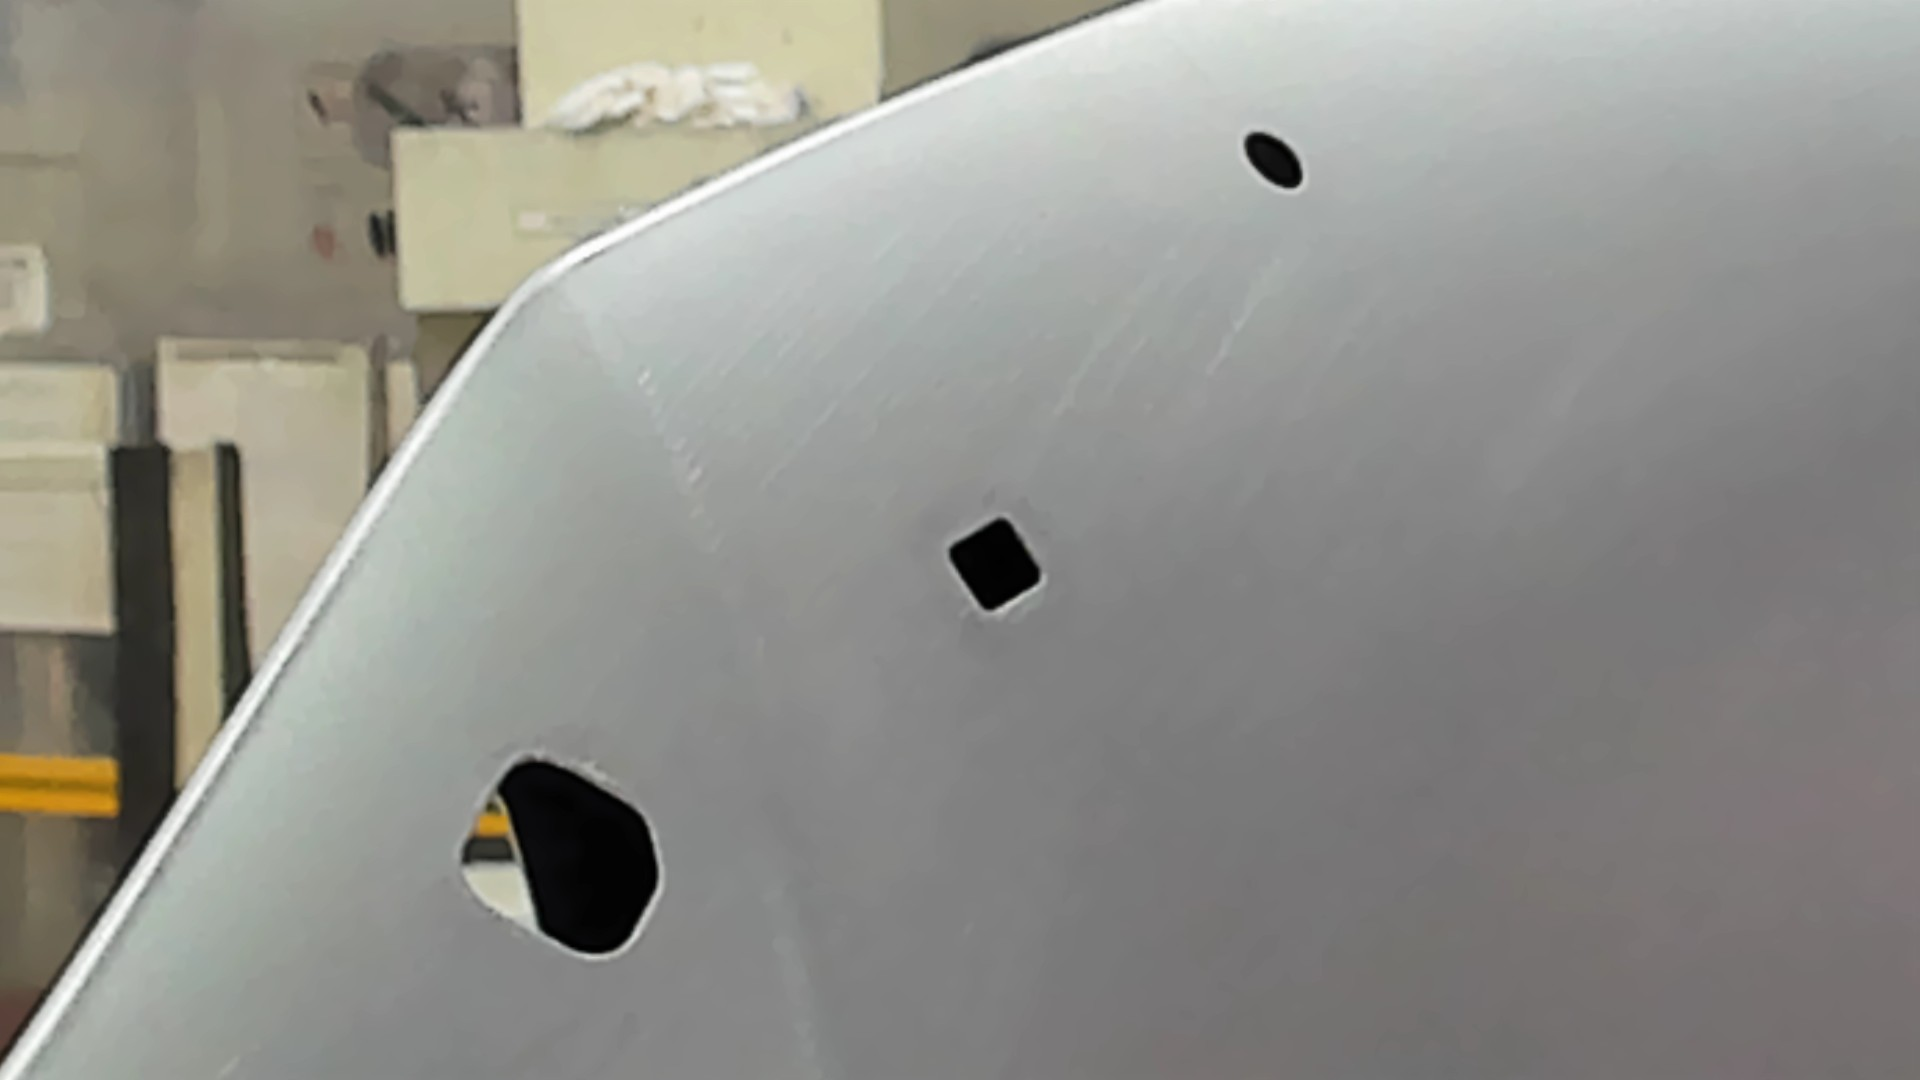chico: (1238, 127, 1307, 195)
grande: (450, 746, 671, 967)
mediano: (936, 508, 1054, 617)
